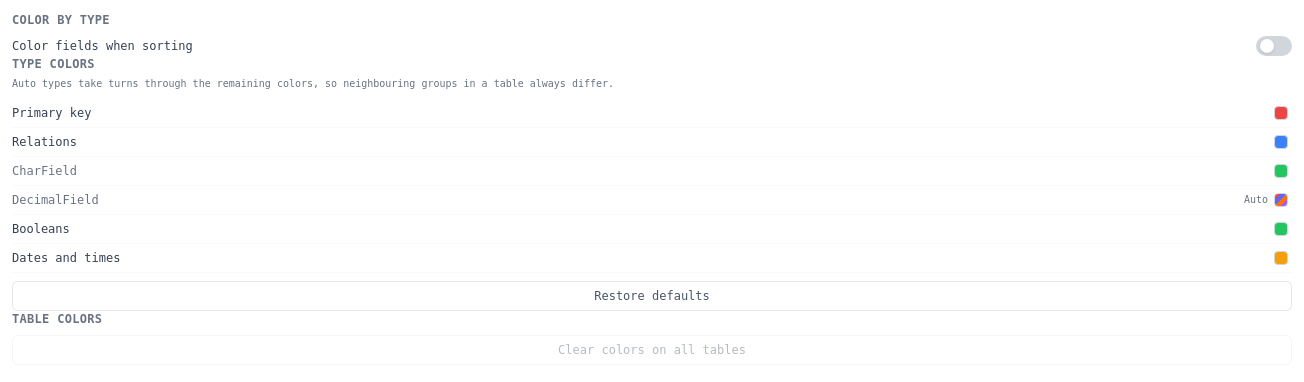
Test case: TypeColorSettings › Restore defaults clears every pick and is disabled when there are none
Click the button "Restore defaults": (652, 296) x1=12 y1=281 x2=1292 y2=311
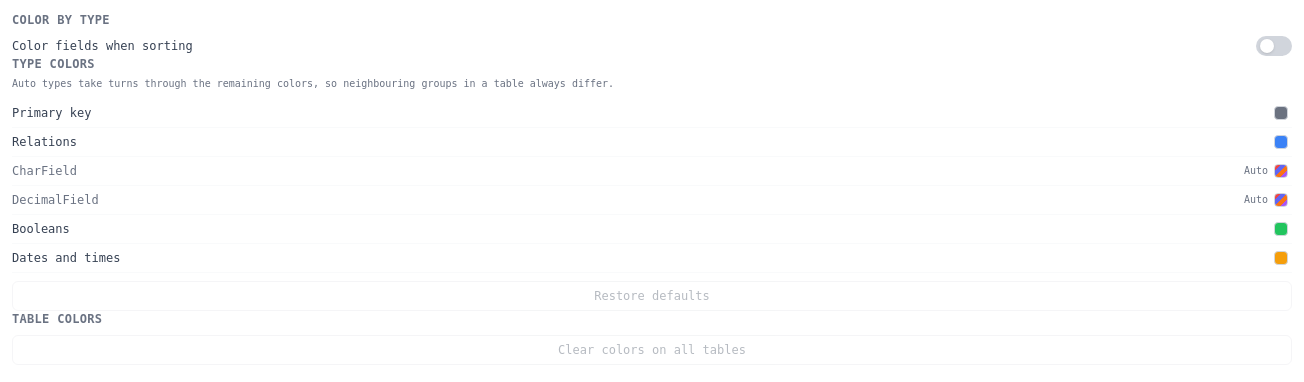
Check: the button "Restore defaults" is disabled, box x1=12 y1=281 x2=1292 y2=311
